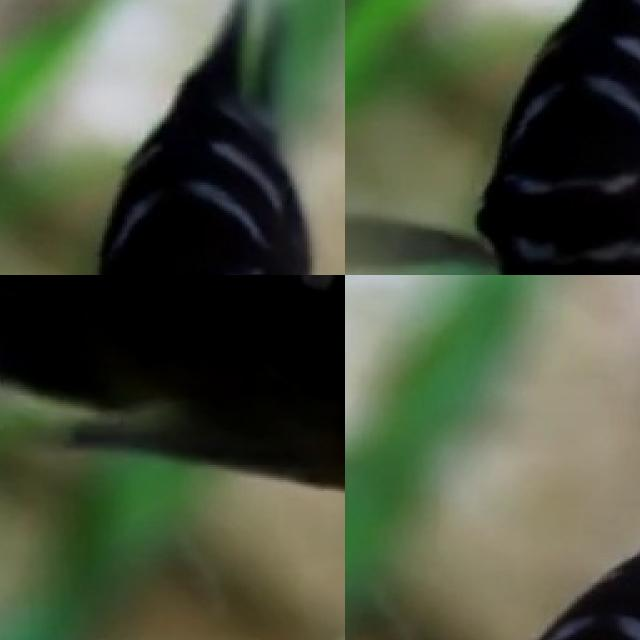fish: (0, 275, 345, 569), (0, 0, 345, 275), (345, 0, 640, 275)
